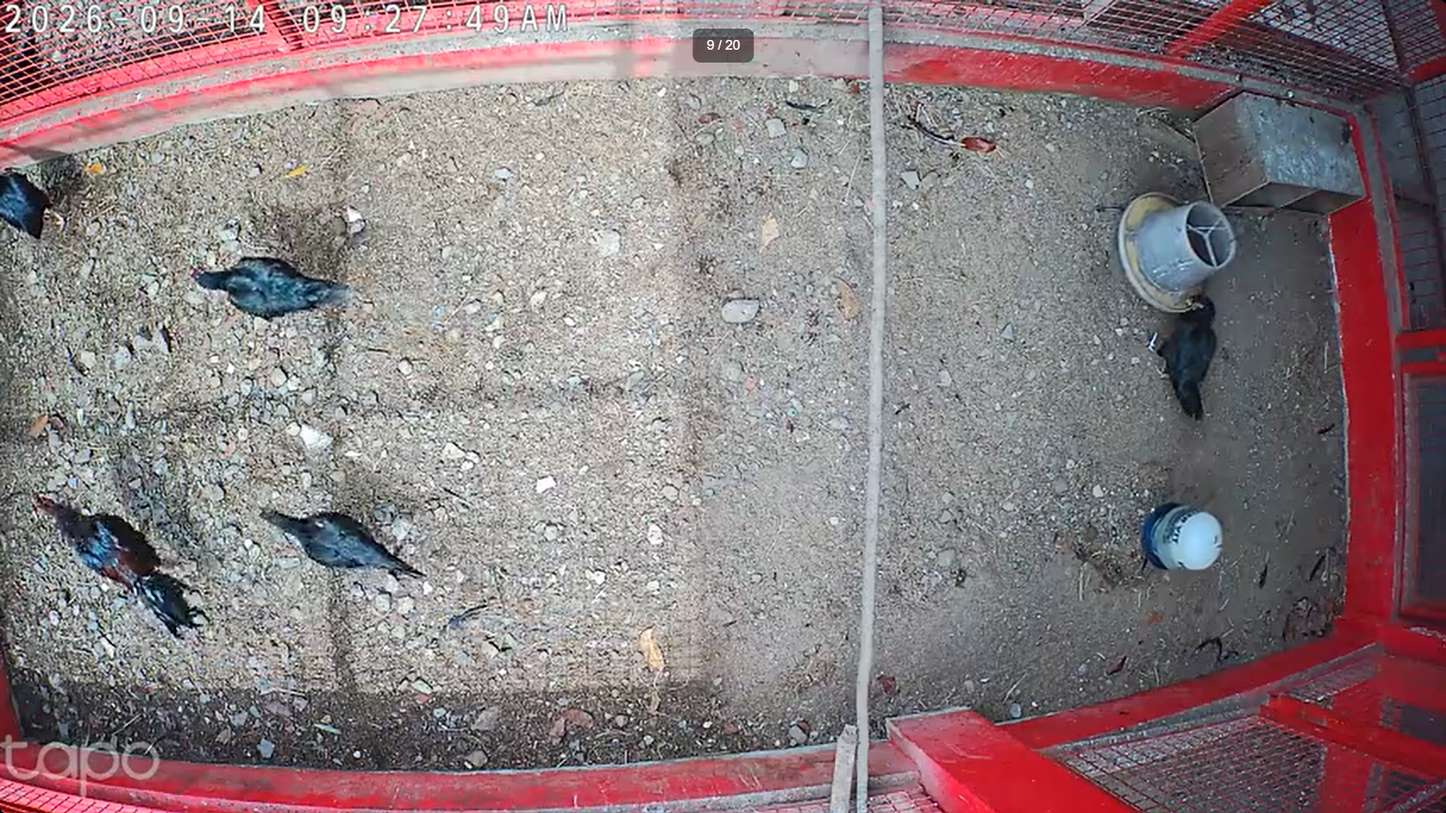Chicken: (257, 507, 430, 587), (185, 256, 363, 320), (1146, 293, 1219, 428)
